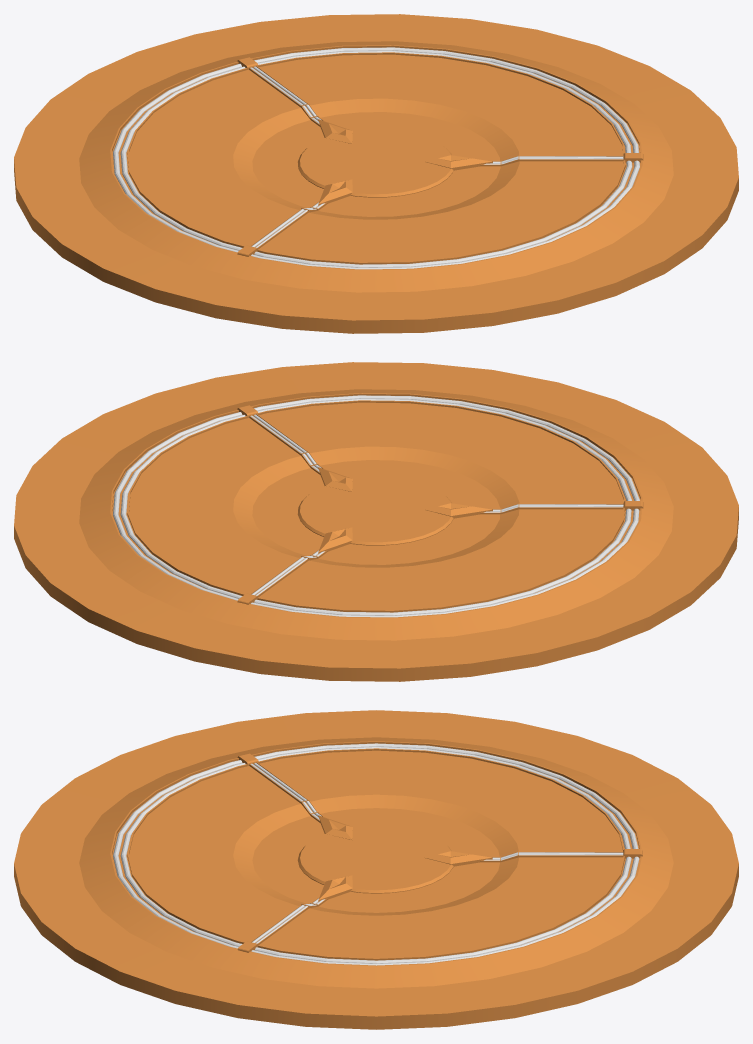
The model's file is prop_platformCircle.fbx.
The picture shows the model from 3 angles, top to bottom: view 1: azimuth 30°, elevation 25°; view 2: azimuth 150°, elevation 25°; view 3: azimuth 270°, elevation 25°; orthographic projection.
Parts seen in each view (by area): view 1: prop_platformCircle; view 2: prop_platformCircle; view 3: prop_platformCircle.
Boxes of the visible parts, bbox=[...] form: prop_platformCircle: bbox=[14, 14, 738, 333]; prop_platformCircle: bbox=[14, 362, 738, 681]; prop_platformCircle: bbox=[14, 710, 738, 1029].
Bounding box in the file's own units: 4516 × 172 × 4516.
